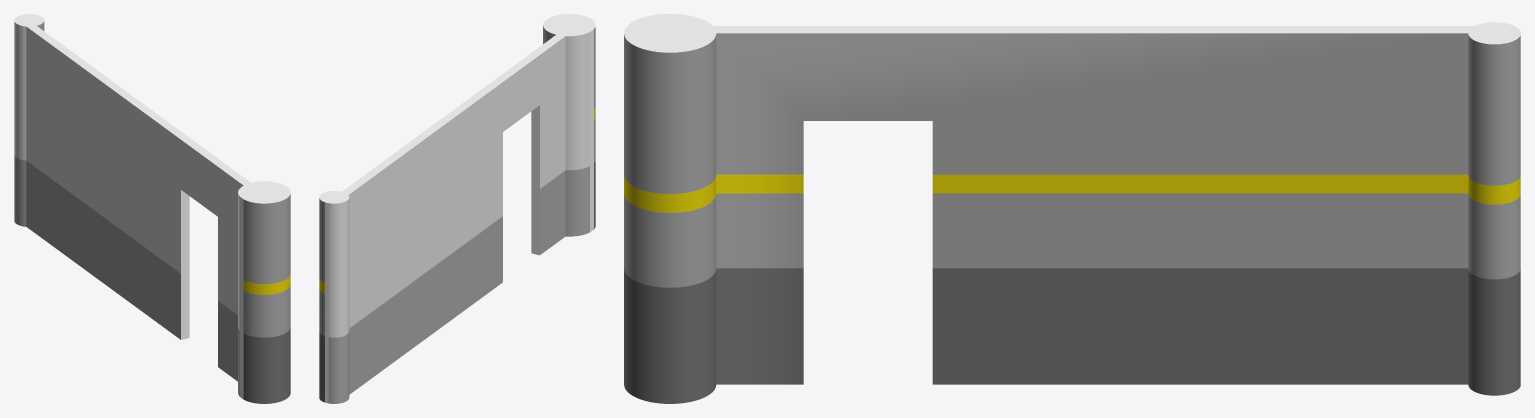
3 views of the same model, side by side, from view 1: azimuth 30°, elevation 25°; view 2: azimuth 150°, elevation 25°; view 3: azimuth 270°, elevation 25° (orthographic). The views are drawn at different scales.
Visible parts, largest first — view 1: SketchUp.001, SketchUp.003, SketchUp.002, SketchUp, SketchUp.004; view 2: SketchUp.001, SketchUp.002, SketchUp.004, SketchUp, SketchUp.003; view 3: SketchUp, SketchUp.002.
Boxes of the visible parts, box(x1,y1,x2,y2) form: SketchUp.001: box(14, 21, 243, 396); SketchUp.003: box(243, 199, 277, 403); SketchUp.002: box(14, 14, 290, 203); SketchUp: box(37, 21, 290, 402); SketchUp.004: box(181, 190, 243, 399); SketchUp.001: box(328, 32, 589, 403); SketchUp.002: box(319, 14, 595, 203); SketchUp.004: box(325, 29, 593, 403); SketchUp: box(319, 25, 555, 402); SketchUp.003: box(594, 27, 595, 228); SketchUp: box(624, 33, 1520, 403); SketchUp.002: box(624, 14, 1520, 52).
Bounding box in the file's own units: 0.7101 × 3 × 6.94.
Materials: 4 (2 with a texture image).
